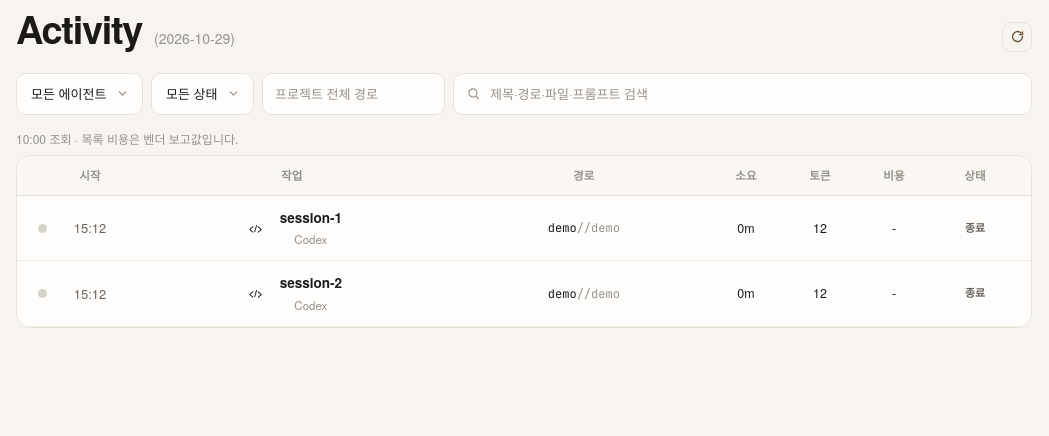
Scenario: React 전환 후 화면과 조회 수명주기 › 검색 입력을 지연 반영하고 필터가 바뀌면 이전 목록을 비운다
Expected: the text "session-1" is shown, [280,208,342,228]
In the search field: {"x": 754, "y": 94} [490,84,1019,104], type "new search"
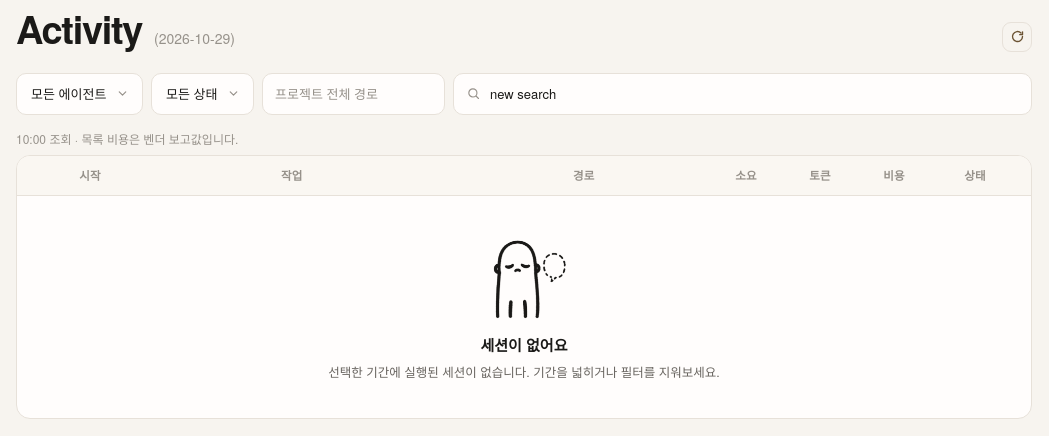
Now the button "session-1" is gone
